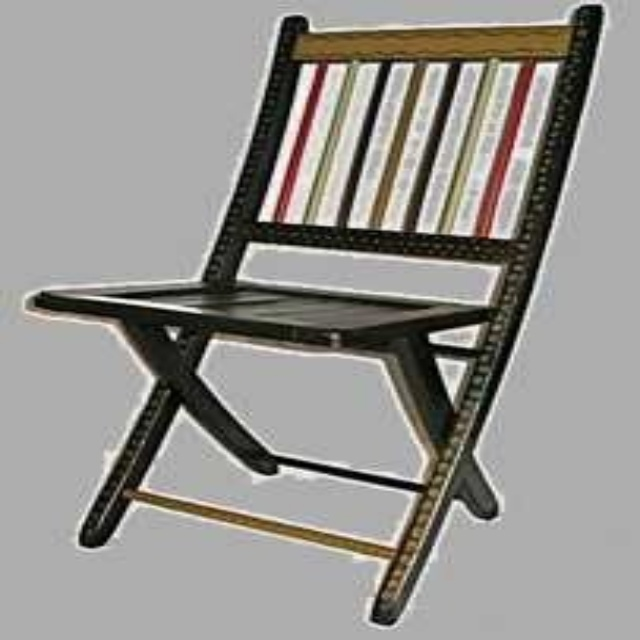obstacle: (28, 4, 599, 623)
